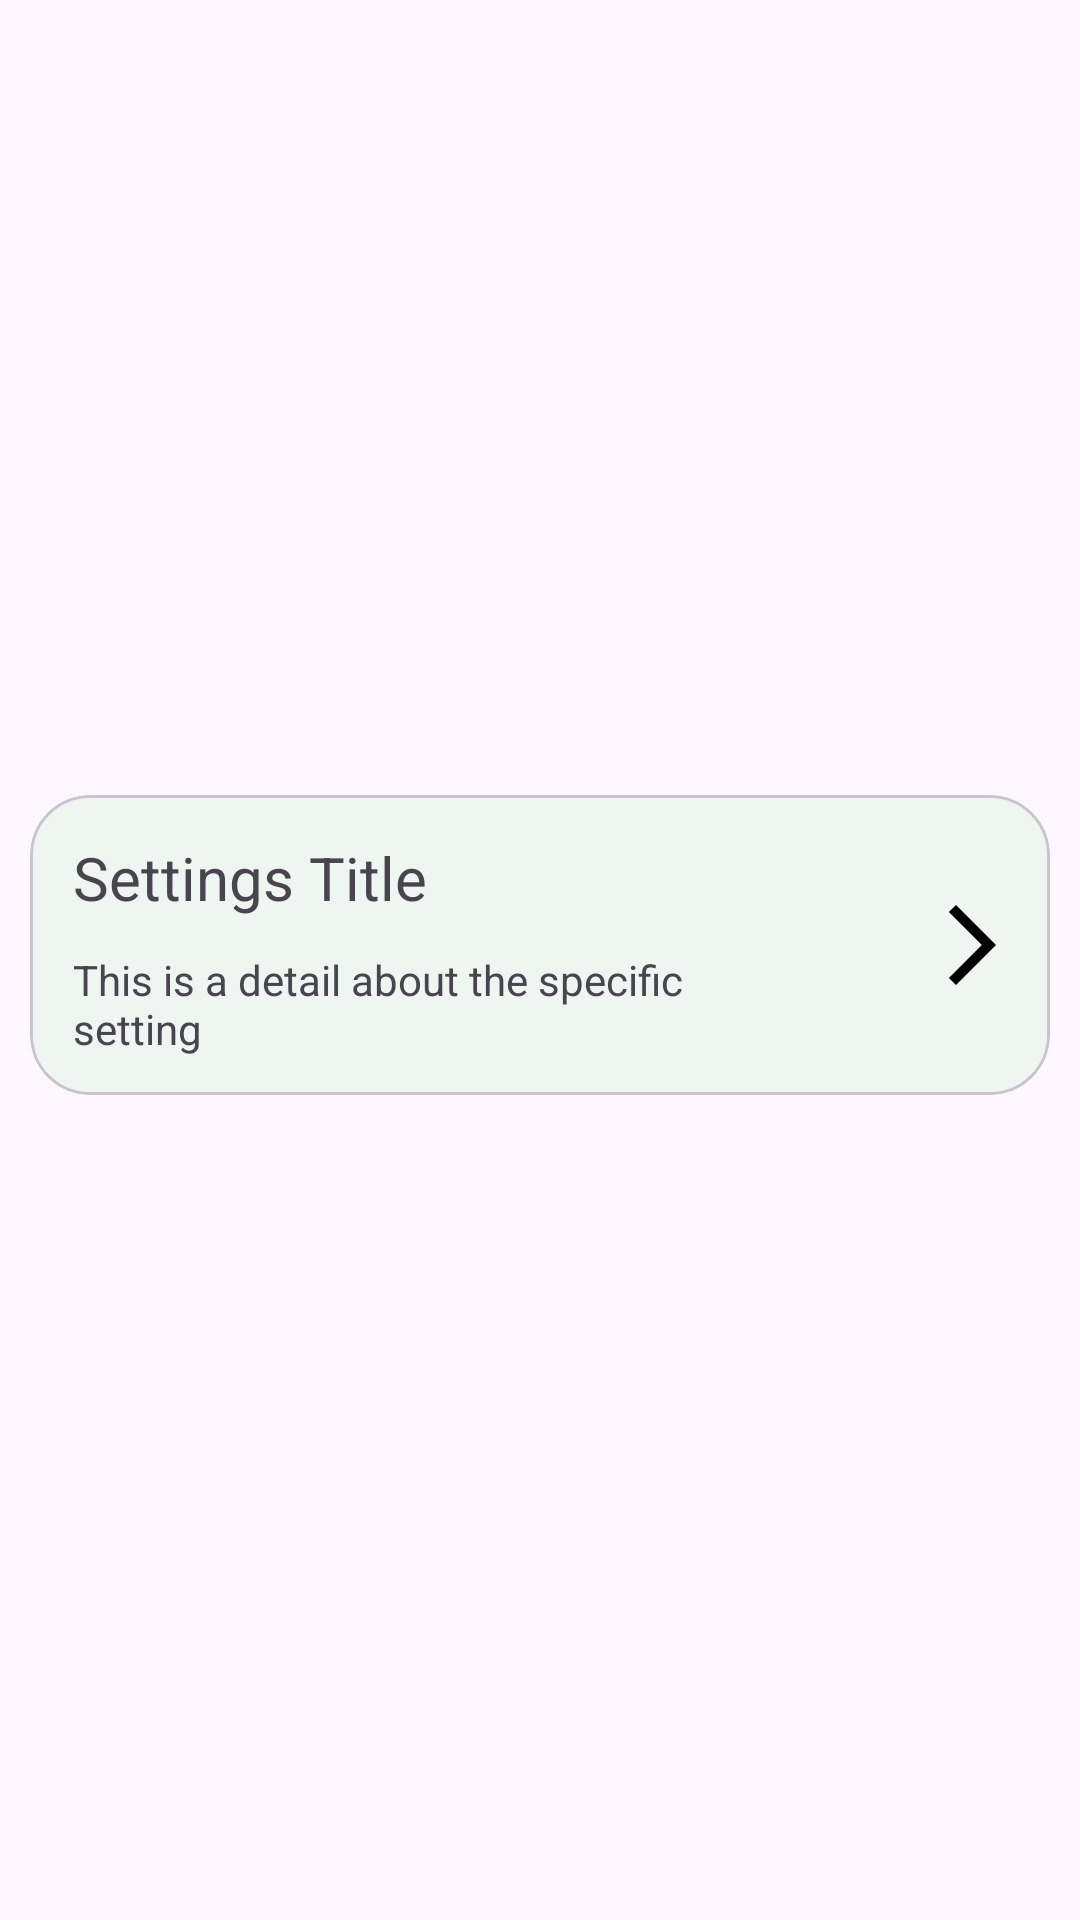

Named icons in this screenshot (1080 × 1920) and their centers, [x,y]:
arrow forward: [972,945]
